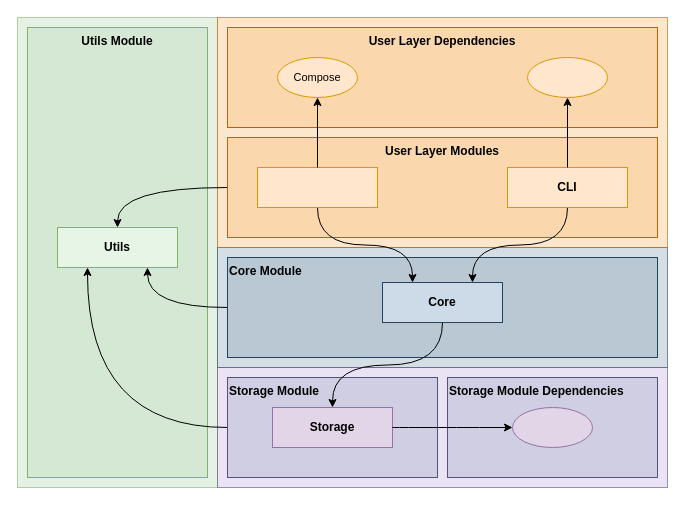
This 685x505 diagram has some shape labels left out. Each missing label, with the centre of its shape:
APP: pixel 317 187
KtLib: pixel 567 77
Okio: pixel 552 427
